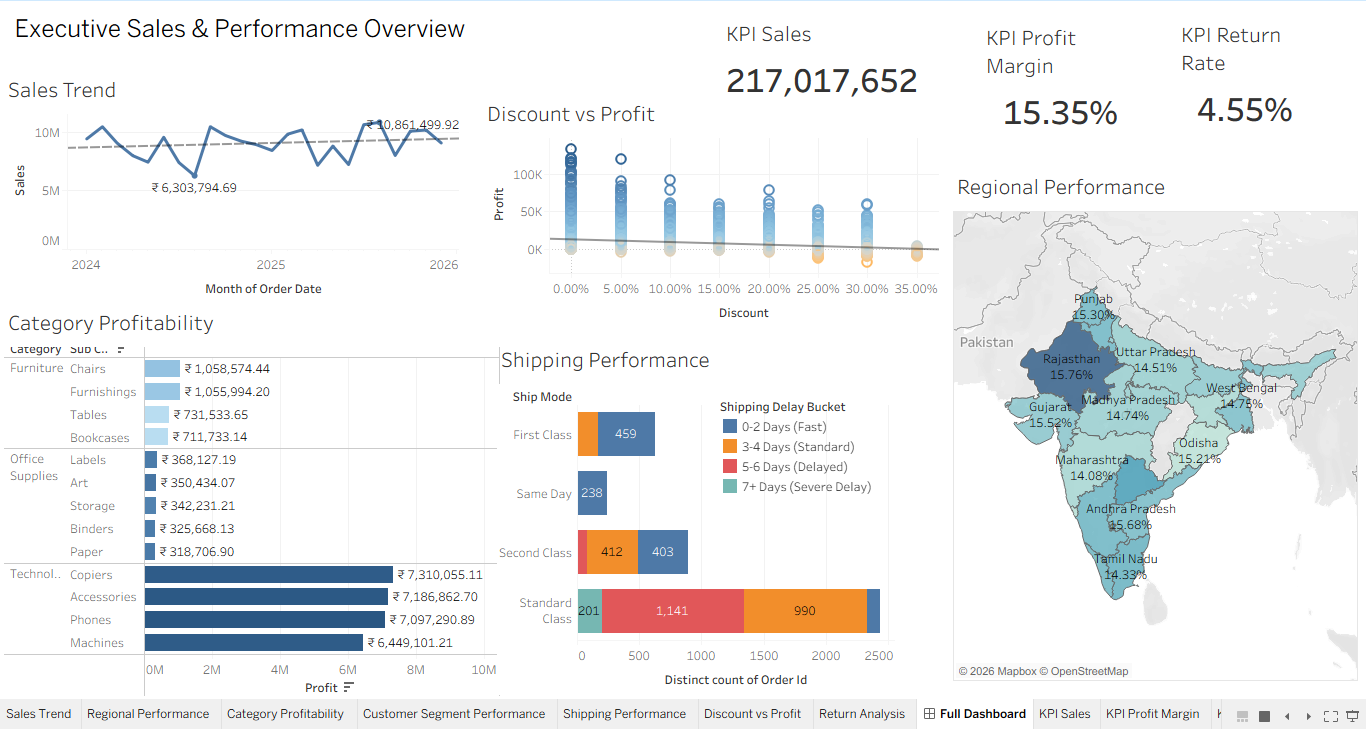

The page's visual inventory and layout, read from the dashboard file:
{"tool":"tableau","page":{"name":"Full Dashboard","canvas":[1000,1000],"units":"permille","ordinal":0},"visuals":[{"type":"title","box":[6.9,14.5,986.1,70.7]},{"type":"worksheet","title":"KPI Sales","mark":"Automatic","box":[528.6,19.9,187.2,173.9]},{"type":"worksheet","title":"KPI Return Rate","mark":"Automatic","box":[861.4,21.7,131.7,213.8]},{"type":"worksheet","title":"KPI Profit Margin","mark":"Automatic","box":[719.2,25.4,141.2,217.4]},{"type":"worksheet","title":"Sales Trend","mark":"Line","rows":["sales"],"cols":["order_date"],"box":[2.6,99.6,333.6,333.3]},{"type":"worksheet","title":"Discount vs Profit","mark":"Automatic","rows":["profit"],"cols":["discount"],"box":[353.6,134.1,333.6,333.3]},{"type":"worksheet","title":"Regional Performance","mark":"Multipolygon","box":[697.6,239.1,296.4,757.2]},{"type":"worksheet","title":"Category Profitability","mark":"Automatic","rows":["category","sub_category"],"cols":["profit"],"box":[2.6,434.8,363.1,563.4]},{"type":"worksheet","title":"Shipping Performance","mark":"Automatic","rows":["ship_mode"],"cols":["order_id"],"box":[363.9,487.3,291.2,507.2]},{"type":"legend","title":"Shipping Performance","param":"[federated.1ejny500qm5ceq168wov0175pajv].[none:Calculation_1584137038376964:nk]","box":[526.9,568.8,135.2,177.5]}]}

Visuals, with their boxes on the dashboard's canvas, which has no fixed pixel size, in thousandths of its width and height (x1, y1, x2, y2). These are canvas units, not pixel positions in the 1366x729 screenshot, which may show the page scaled, cropped or inside an application window:
title: l=7, t=14, r=993, b=85
"KPI Sales" worksheet: l=529, t=20, r=716, b=194
"KPI Return Rate" worksheet: l=861, t=22, r=993, b=236
"KPI Profit Margin" worksheet: l=719, t=25, r=860, b=243
"Sales Trend" worksheet (Line marks): l=3, t=100, r=336, b=433
"Discount vs Profit" worksheet: l=354, t=134, r=687, b=467
"Regional Performance" worksheet (Multipolygon marks): l=698, t=239, r=994, b=996
"Category Profitability" worksheet: l=3, t=435, r=366, b=998
"Shipping Performance" worksheet: l=364, t=487, r=655, b=994
"Shipping Performance" legend: l=527, t=569, r=662, b=746
